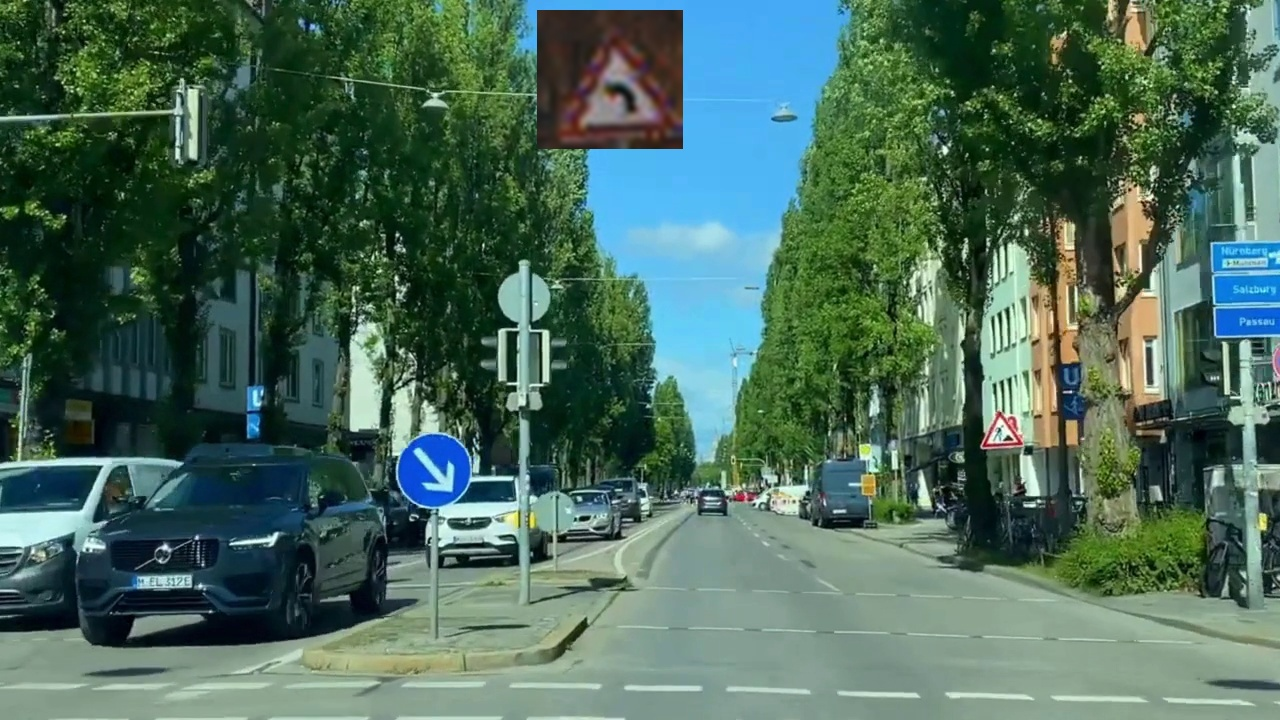Curve left: (537, 10, 683, 149)
